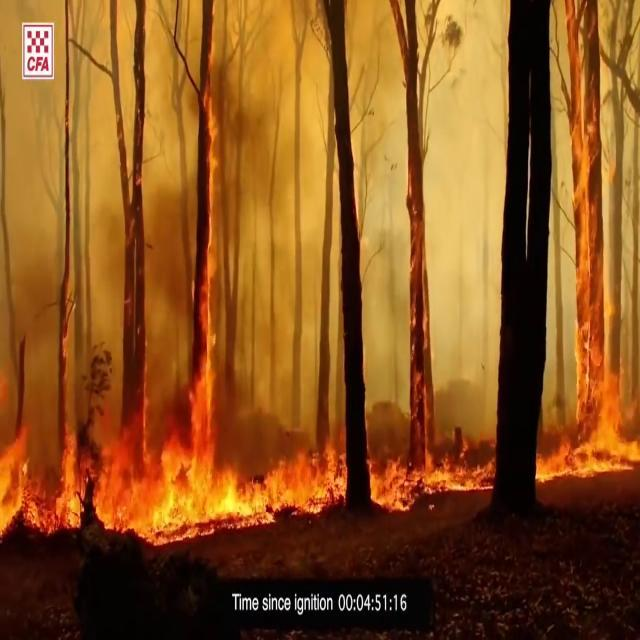Fire: (0, 374, 480, 525), (536, 98, 640, 482)
Smoke: (22, 0, 511, 401)
